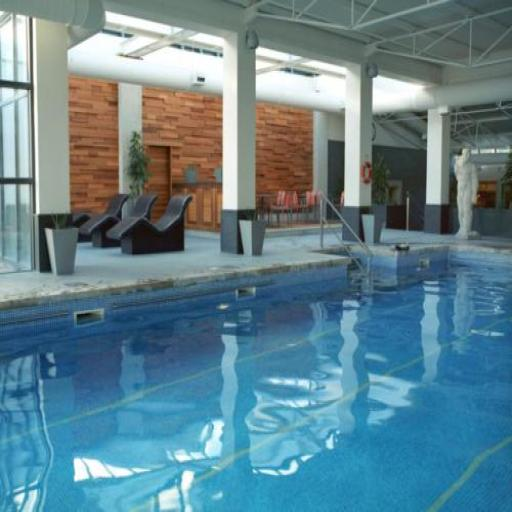swimming: (450, 143, 481, 242)
